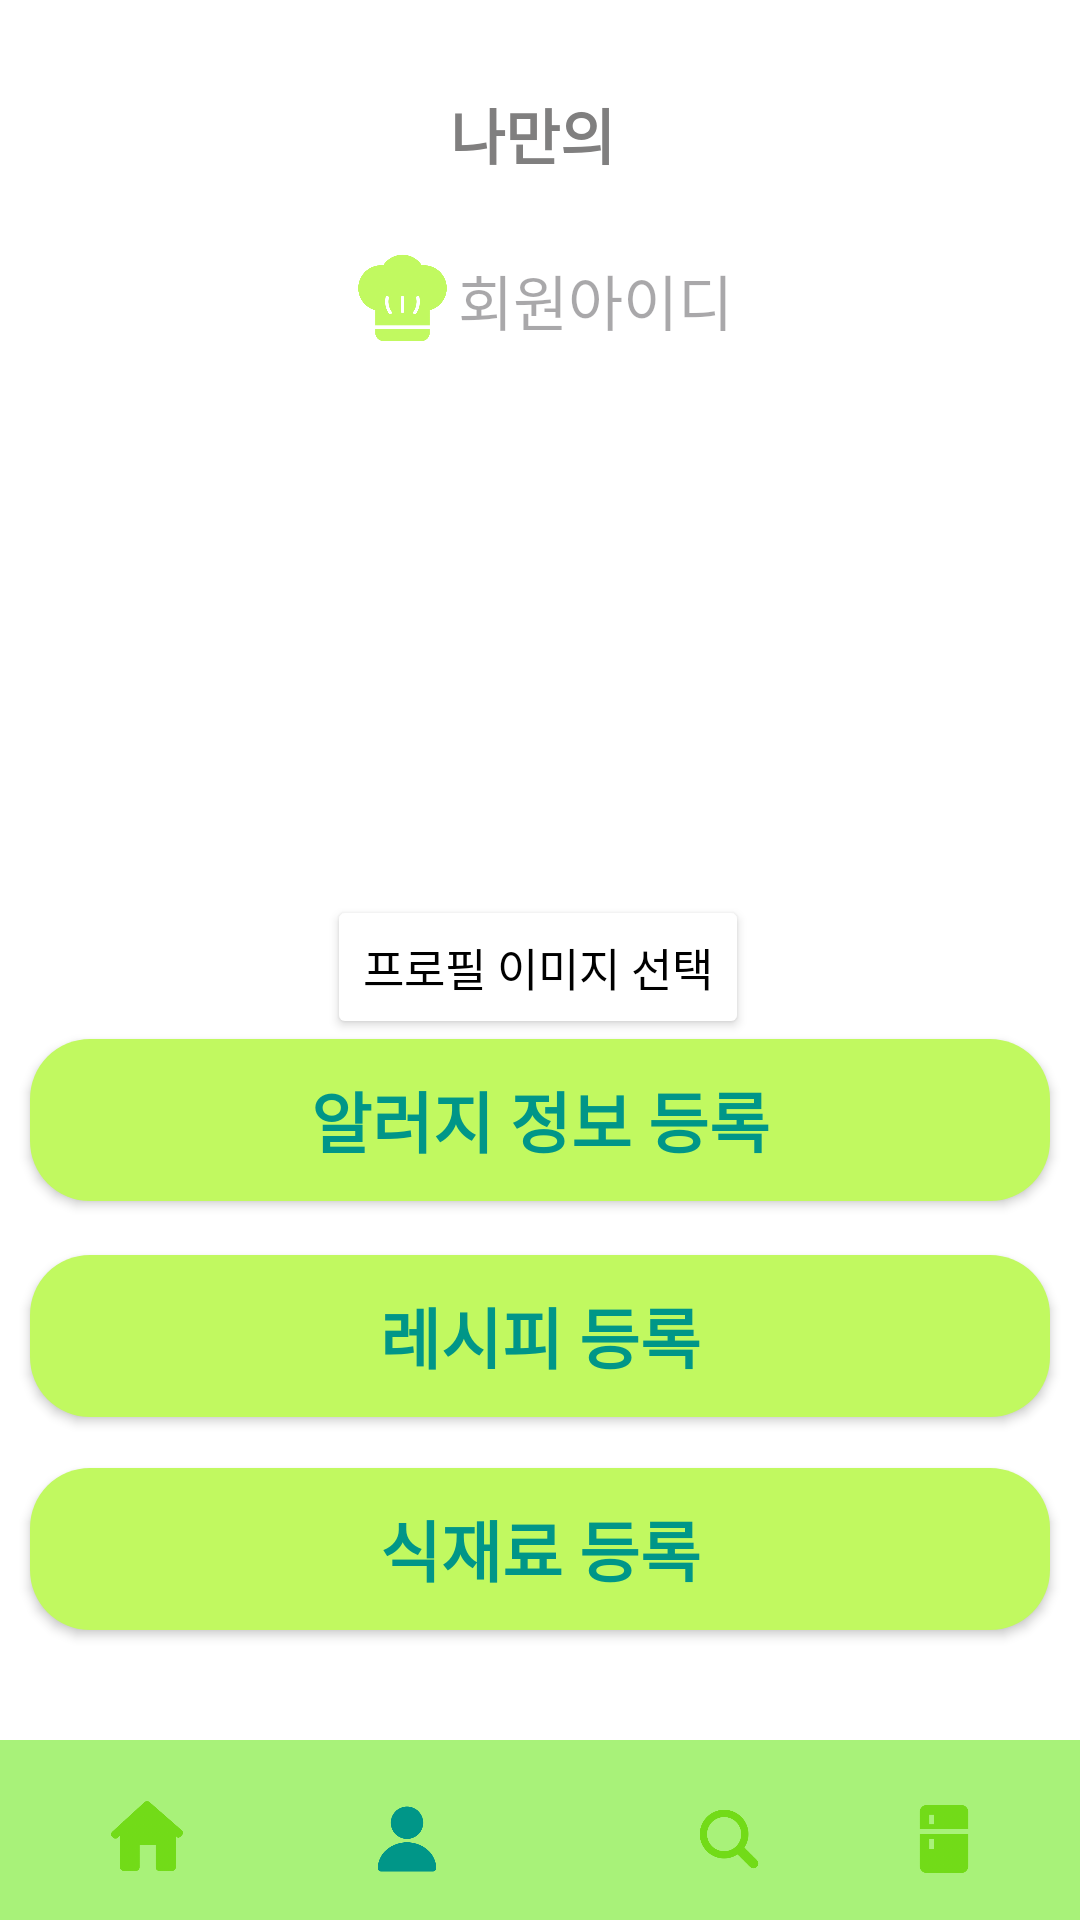

Named icons in this screenshot (1080px×1920px) and their bounding boxes, [x1, y1, x2, y2]:
chefhat: [358, 255, 447, 341]
home: [111, 1801, 183, 1871]
mypage: [378, 1806, 436, 1872]
search: [700, 1810, 758, 1868]
